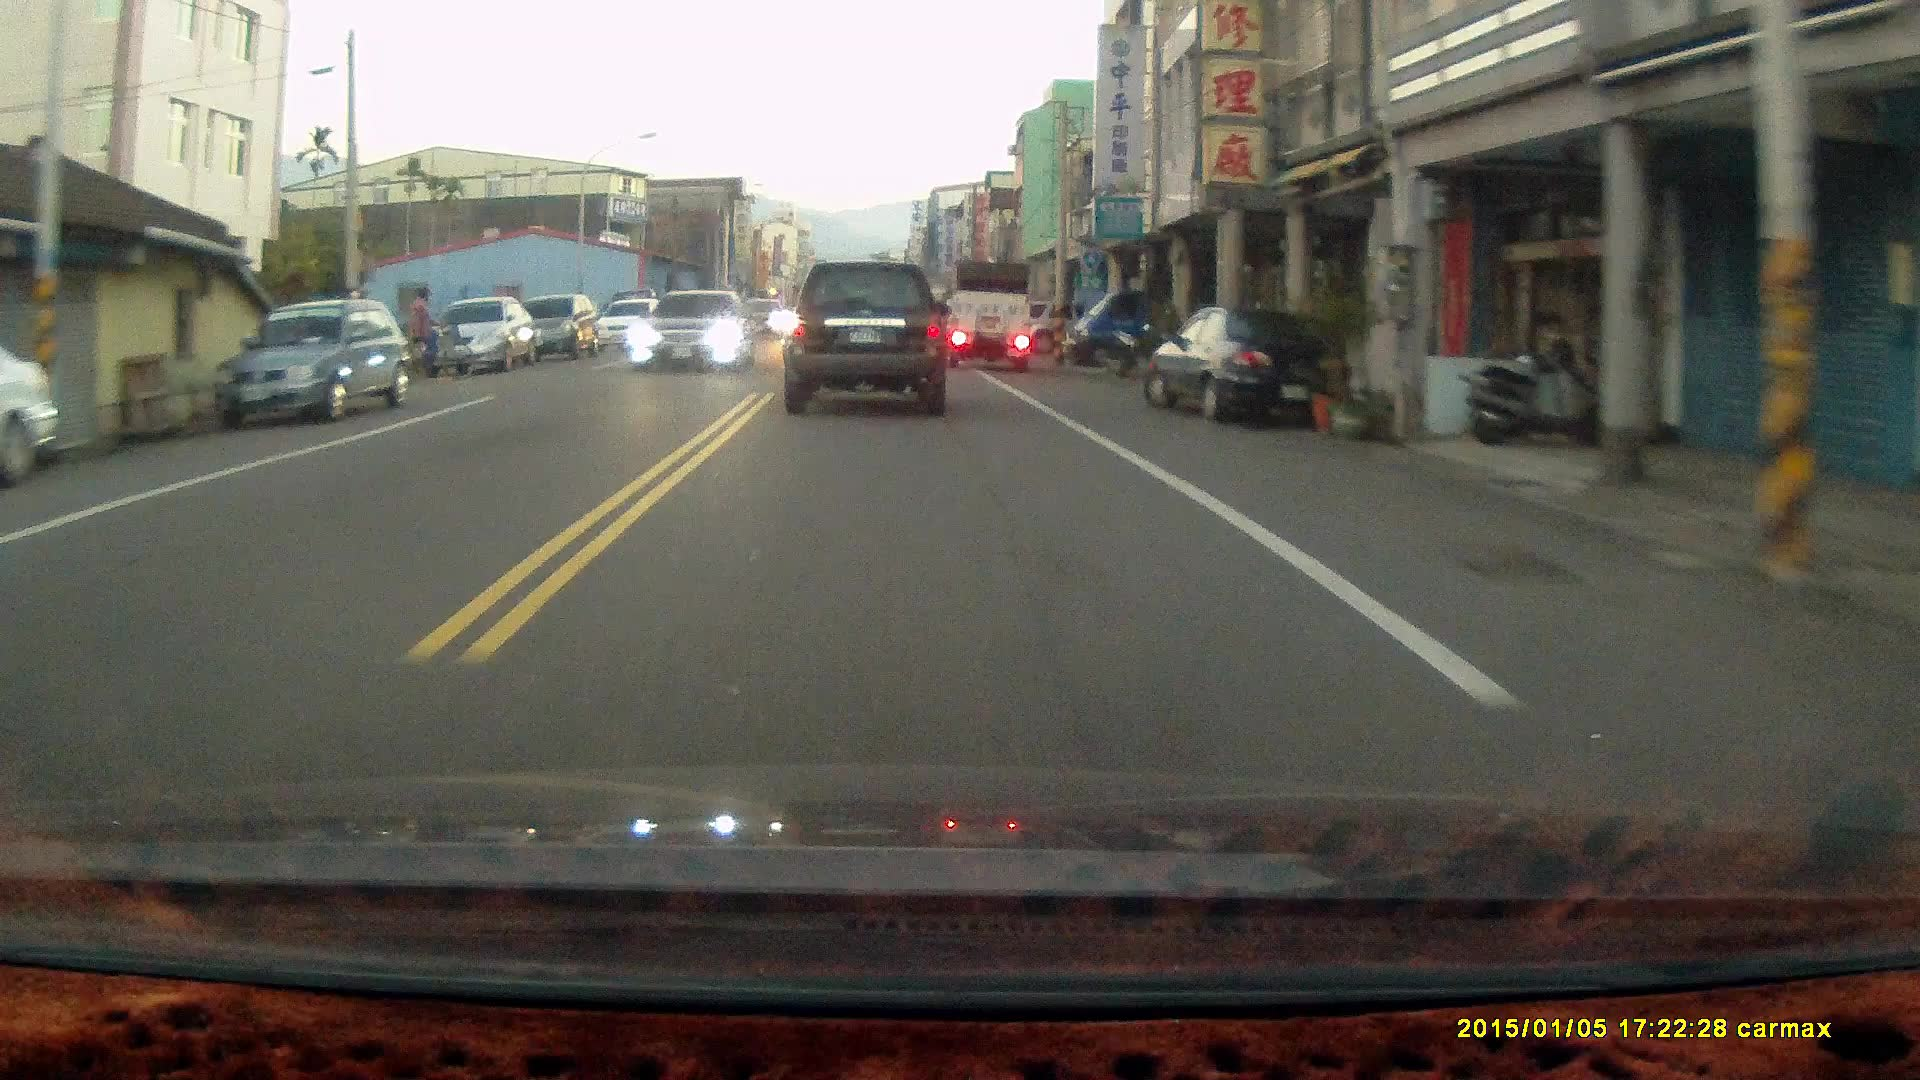rider: (377, 289, 475, 385)
vehicle: (786, 266, 954, 423), (219, 301, 417, 425), (1144, 307, 1347, 425), (1064, 279, 1207, 375), (625, 291, 754, 380), (946, 259, 1033, 372), (426, 296, 535, 374), (512, 296, 599, 363), (595, 300, 675, 357)
